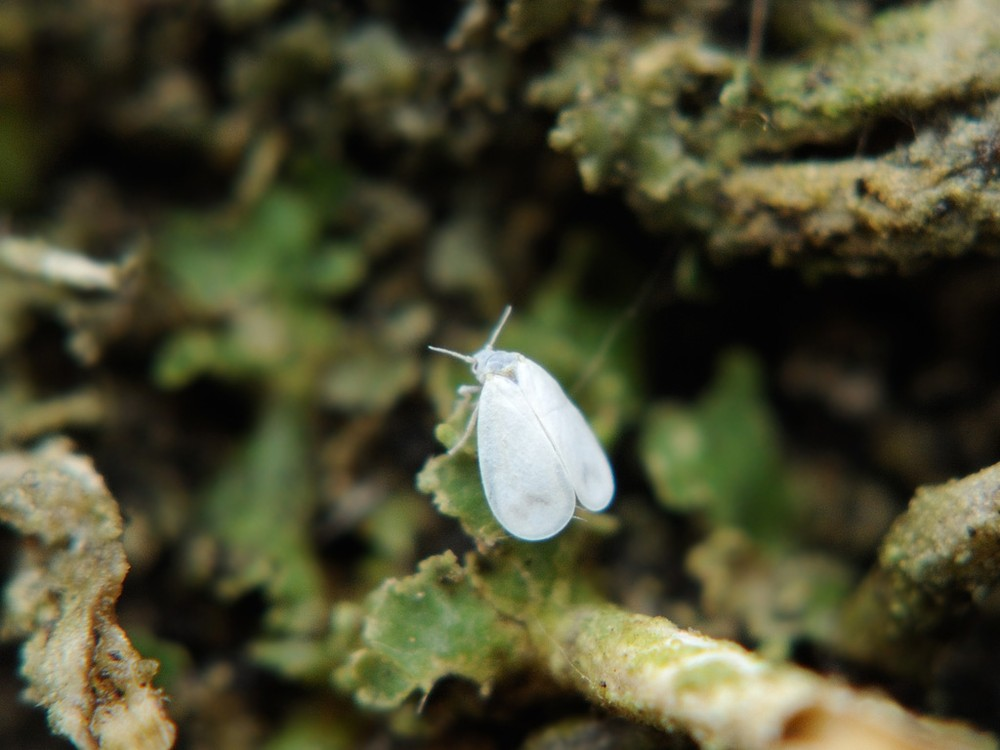Mosca Blanca: (405, 300, 649, 561)
